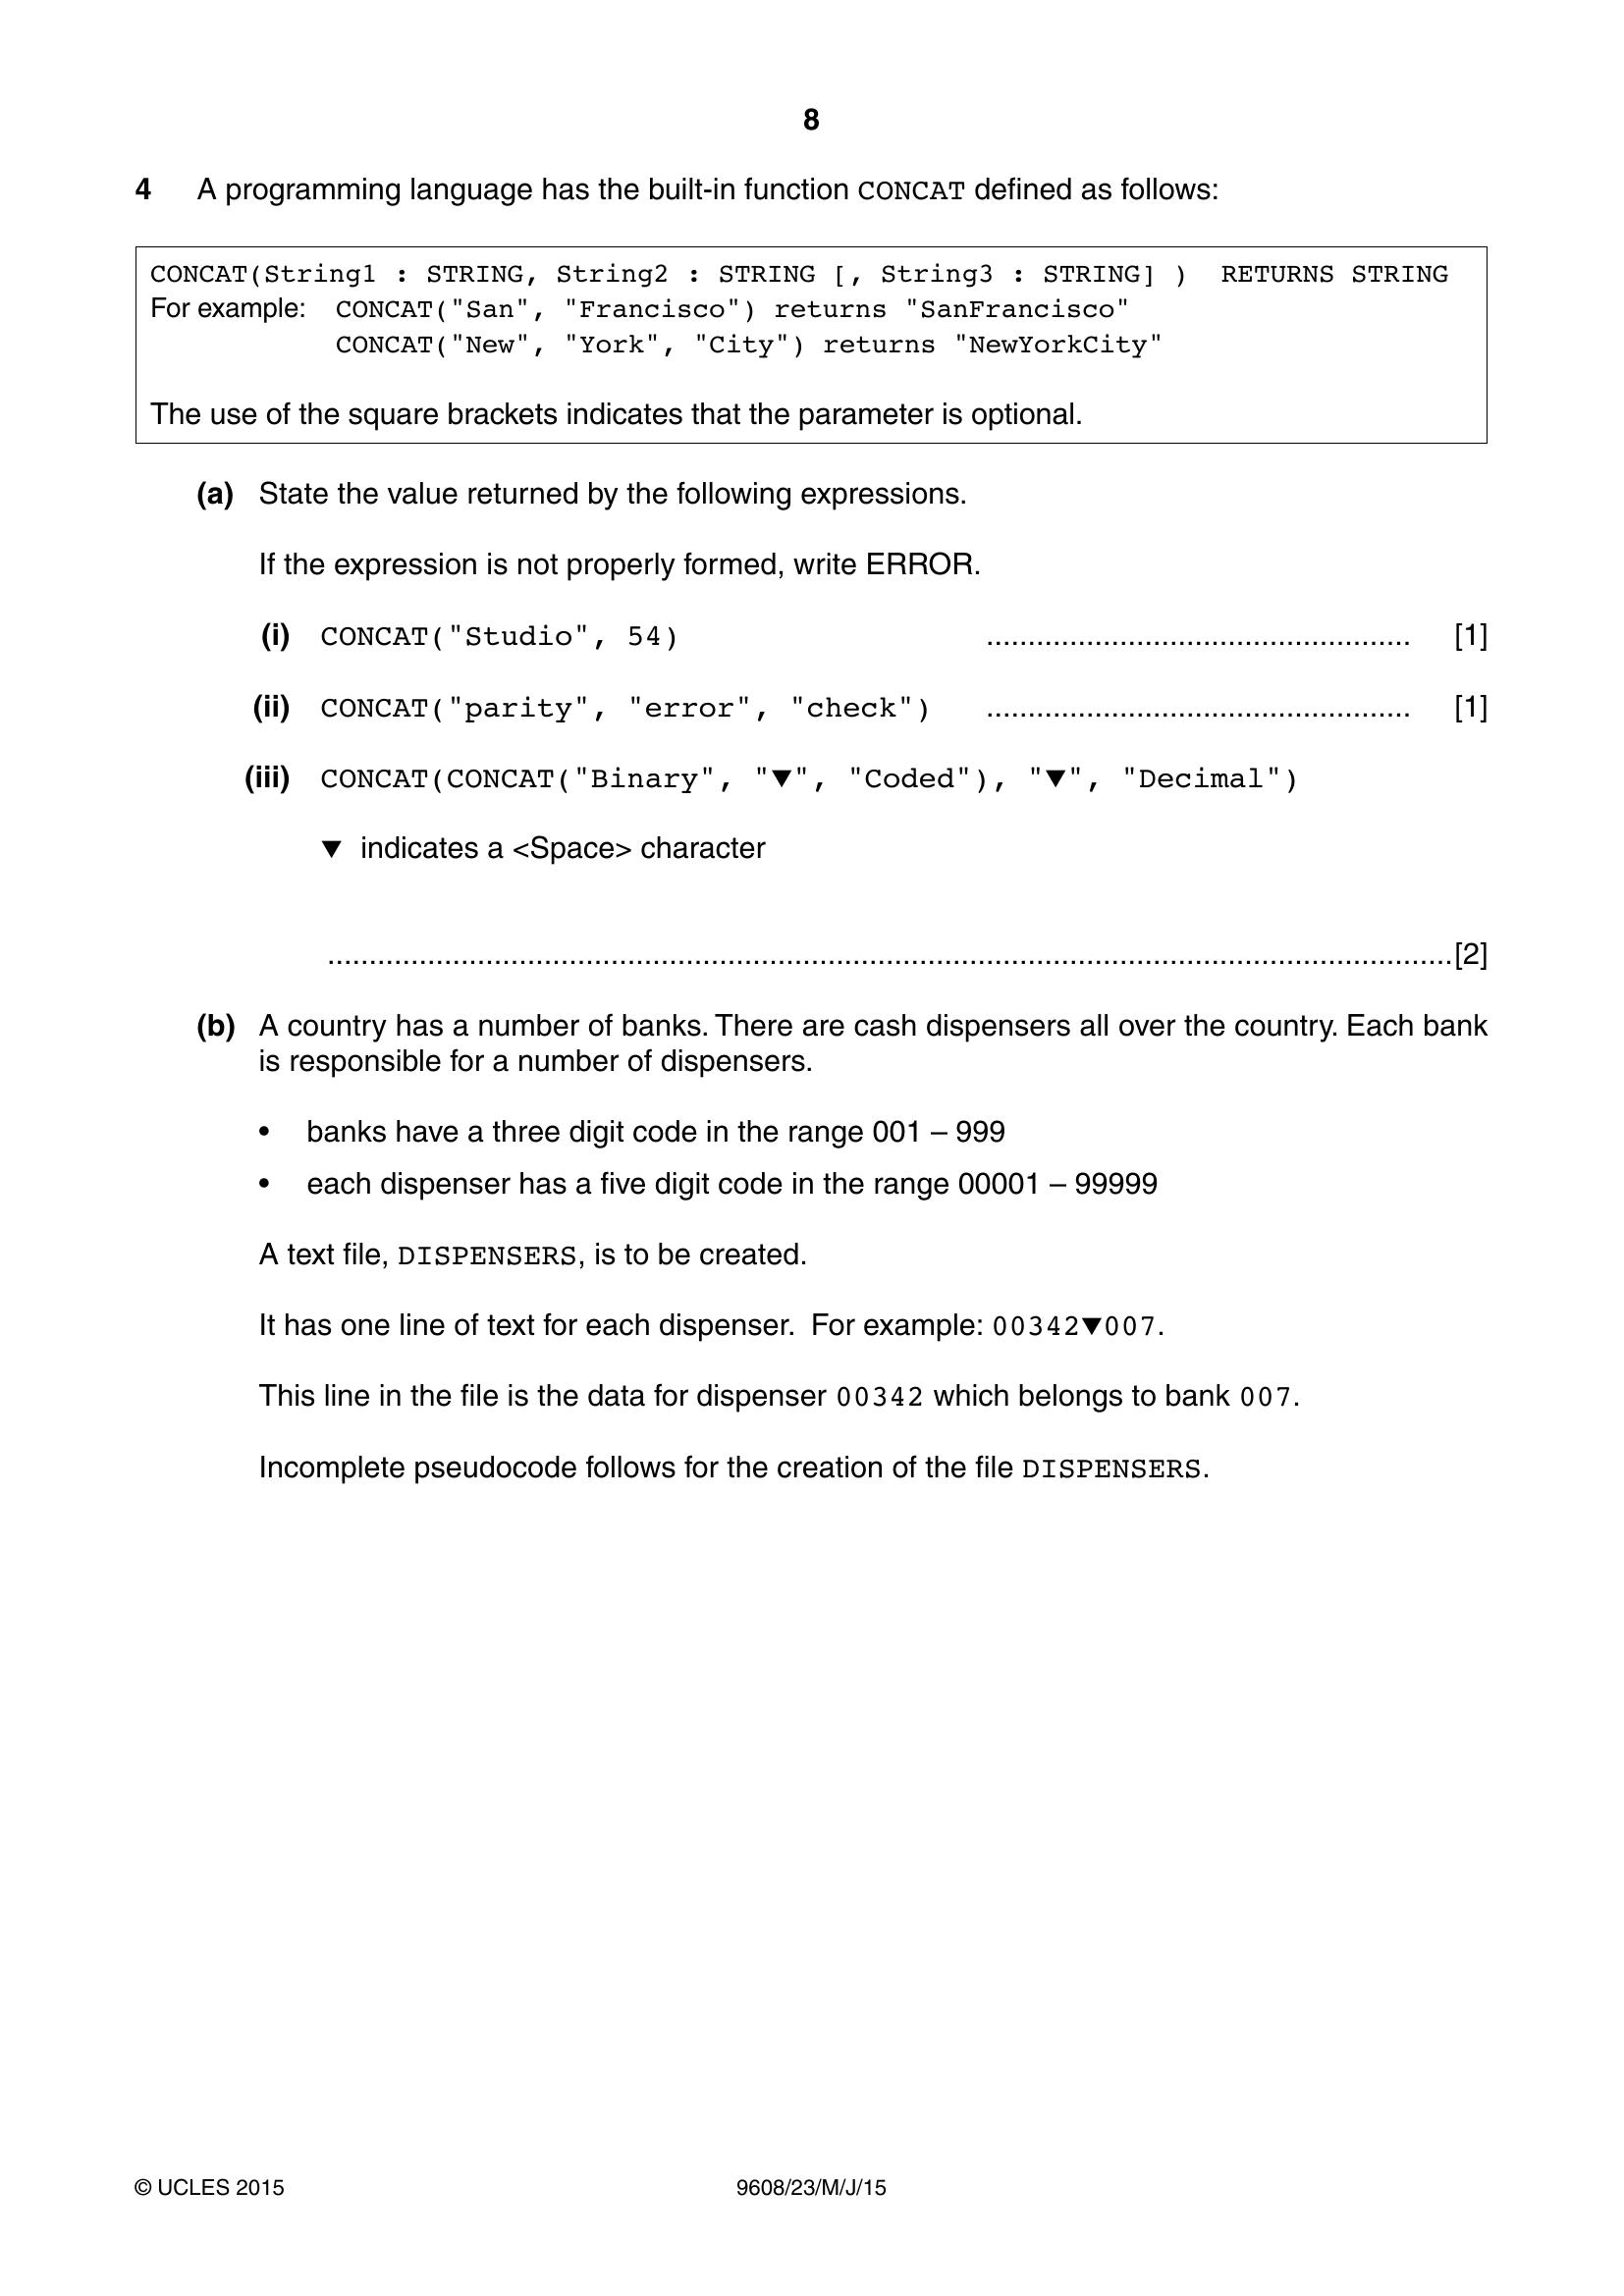question: (2, 172, 1624, 1504)
